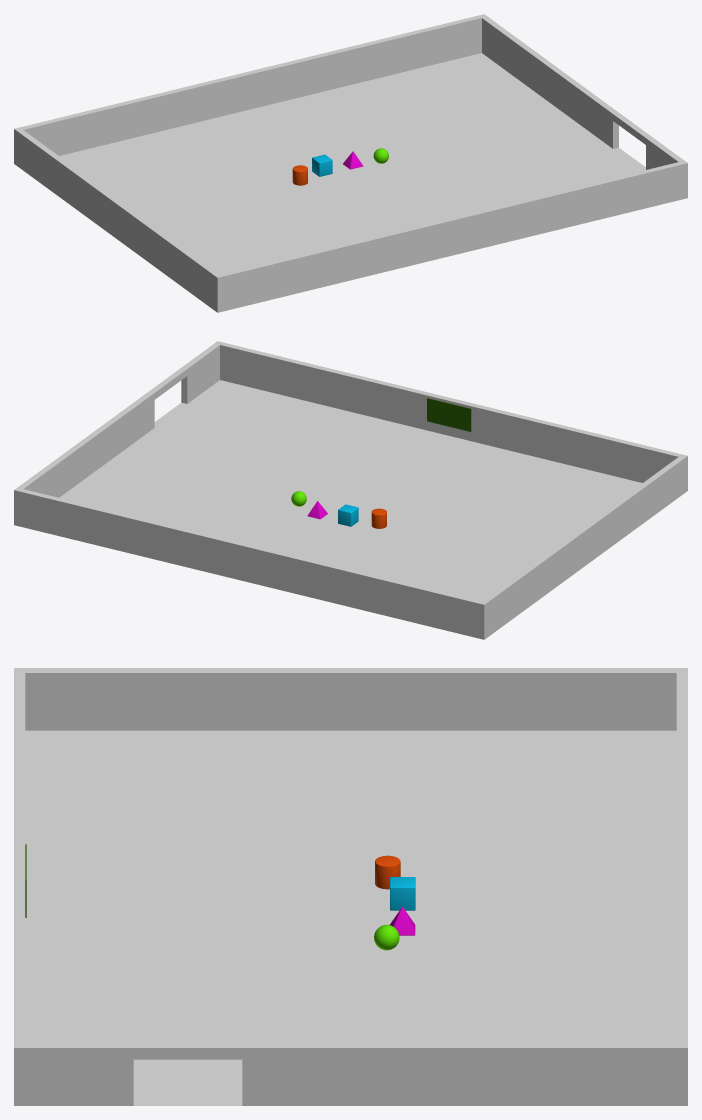
File: Figures.glb
3 views of the same model, one above another, from view 1: azimuth 30°, elevation 25°; view 2: azimuth 150°, elevation 25°; view 3: azimuth 270°, elevation 25° (orthographic). The views are drawn at different scales.
Parts seen in each view (by area): view 1: Ground, Walls; view 2: Ground, Walls, Board; view 3: Ground, Walls, Cube, Cylinder.
Boxes of the visible parts, x1,y1,x2,y2 form: Ground: (59, 53, 645, 273); Walls: (14, 14, 687, 312); Ground: (59, 380, 642, 600); Walls: (14, 341, 687, 639); Board: (427, 398, 471, 431); Ground: (25, 730, 676, 1104); Walls: (14, 668, 687, 1105); Cube: (390, 877, 415, 910); Cylinder: (375, 855, 400, 889).
Bounding box in the file's own units: 35.14 × 2.5 × 26.36.
